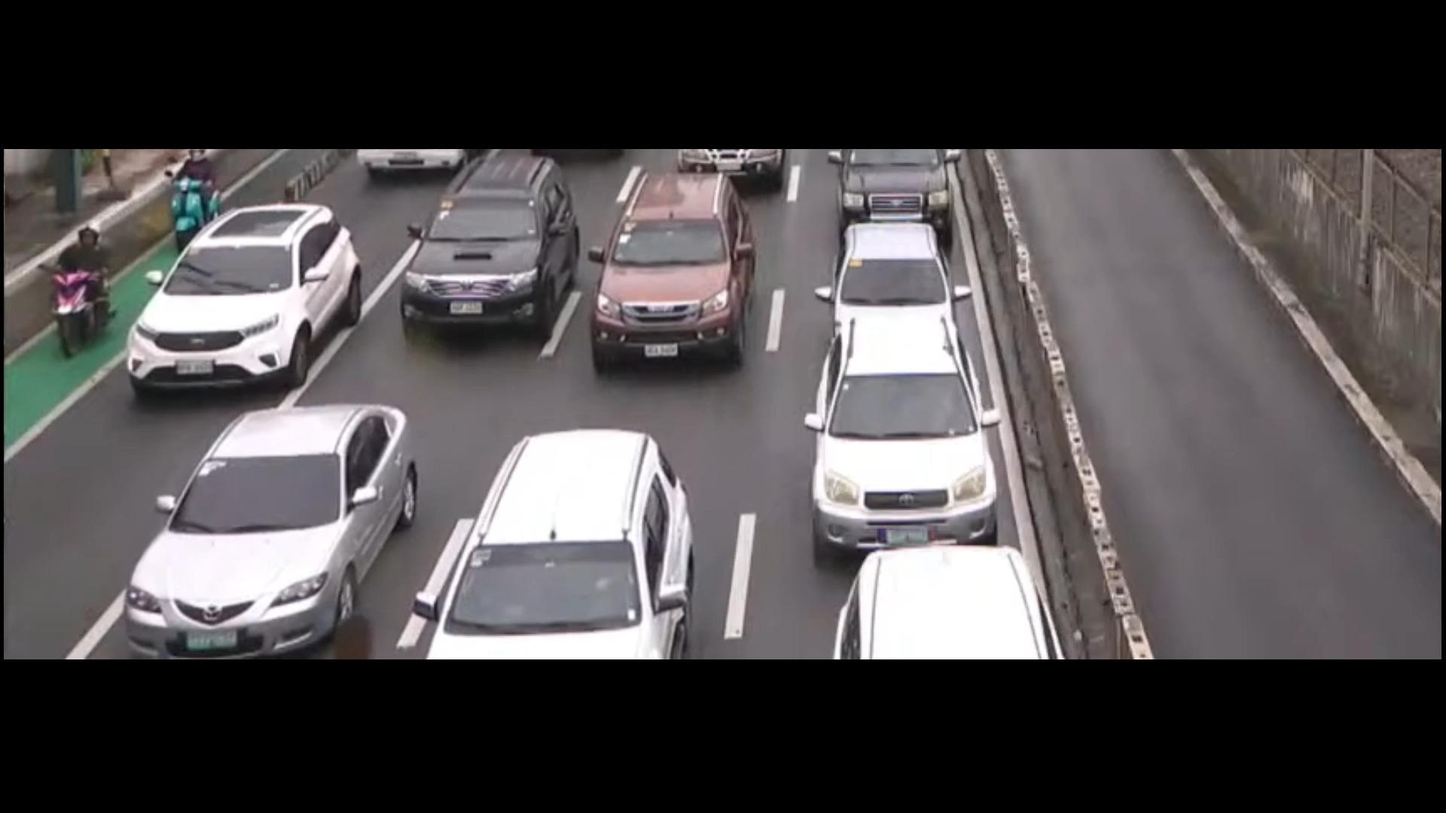Motorcycle: (44, 217, 127, 364), (149, 151, 226, 245)
SUV: (407, 416, 761, 662), (116, 175, 373, 409), (803, 320, 1023, 558), (569, 160, 774, 379), (401, 143, 578, 359)
Sedan: (96, 390, 435, 671), (801, 200, 978, 347)
